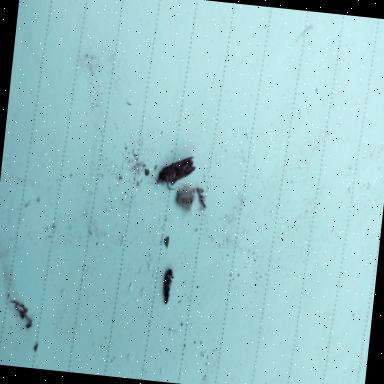pbw: (154, 148, 198, 193)
